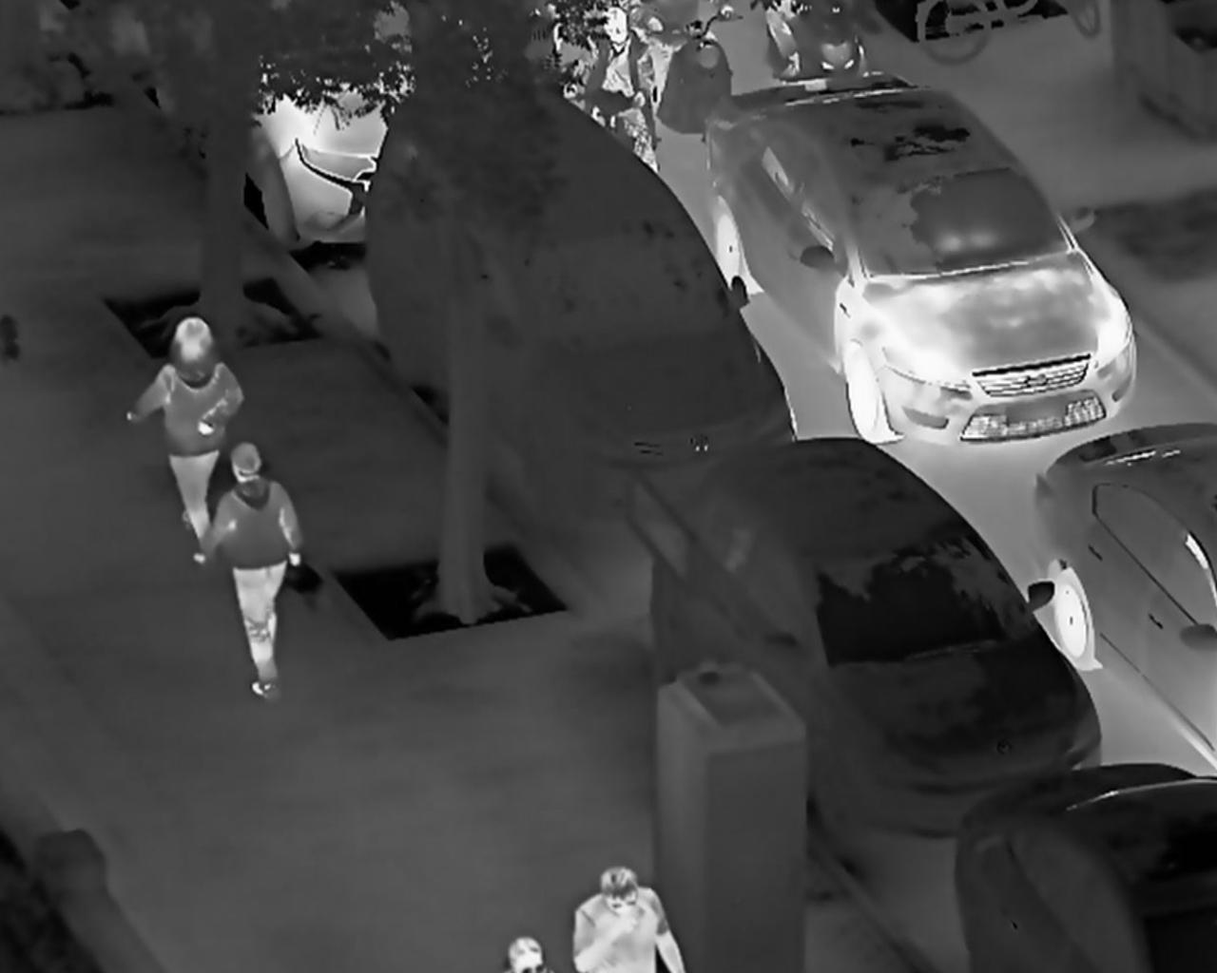person: (190, 439, 306, 707), (121, 314, 247, 555), (559, 9, 660, 177), (567, 863, 688, 973)
